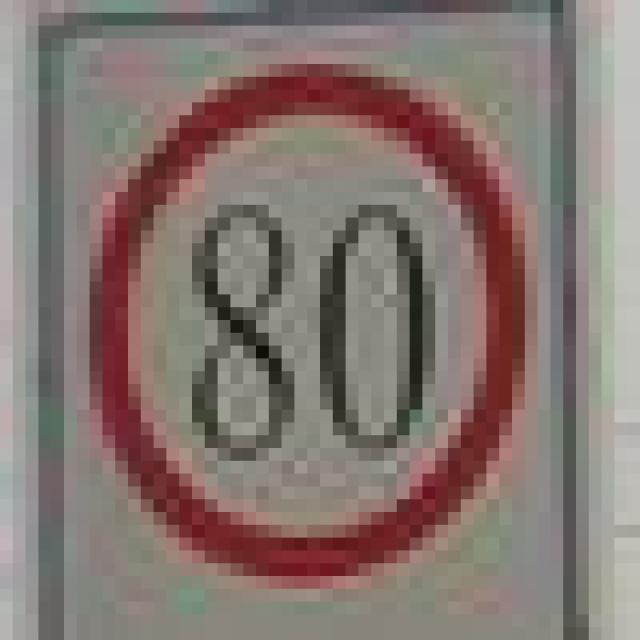speed_limit_50: (64, 51, 525, 576)
